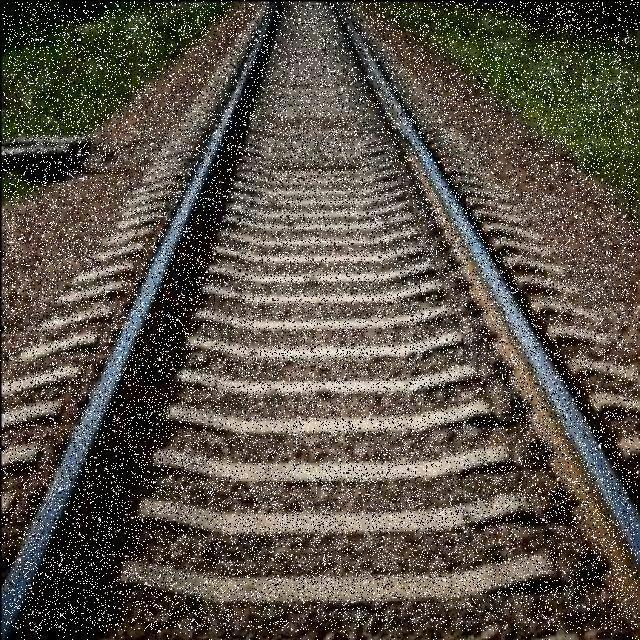rail: (4, 3, 639, 632)
